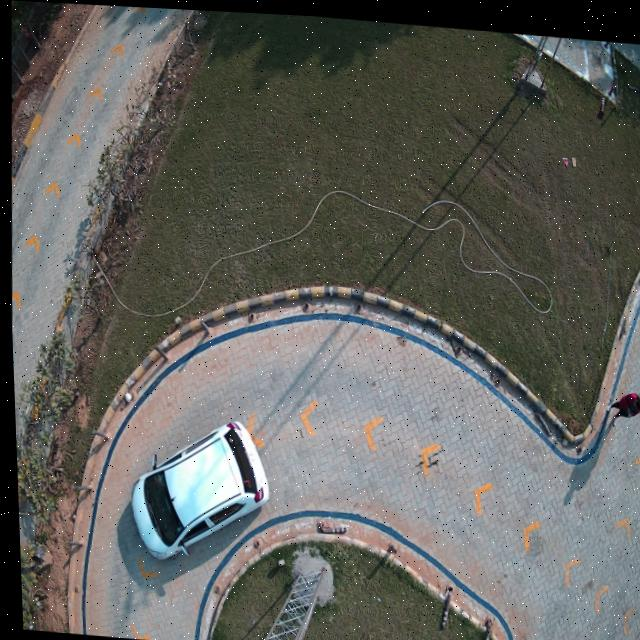car: (127, 419, 265, 558)
